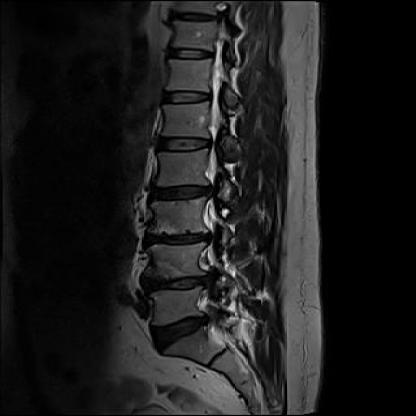Disc Bulgerotation: (146, 312, 215, 355), (139, 225, 224, 254)
